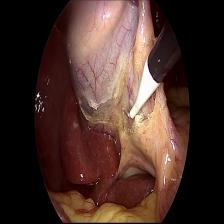Hook: (121, 59, 159, 129)
